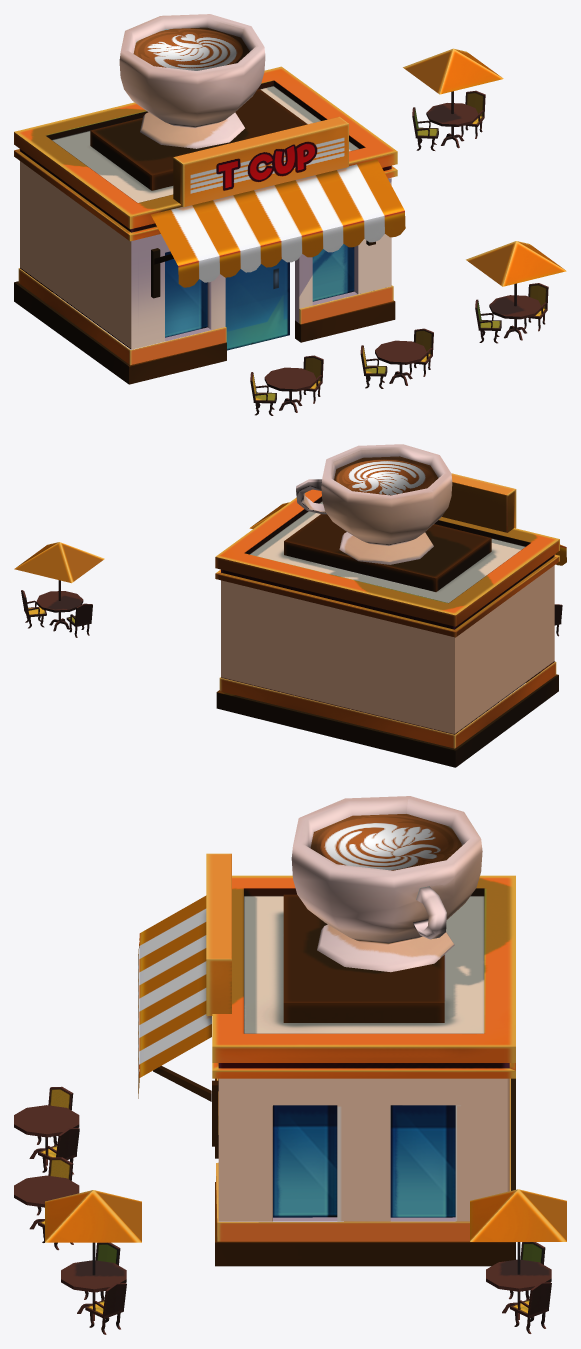
File: Cafe_20180522.fbx
3 renders of one model, top to bottom at view 1: azimuth 30°, elevation 25°; view 2: azimuth 150°, elevation 25°; view 3: azimuth 270°, elevation 25°, orthographic. The views are drawn at different scales.
Visible parts, largest first — view 1: building, cup, Cafe_top, signage, Cafe_Bottom, door, umbrella2, umbrella1, table4, table3, table2, table1 (+4 smaller); view 2: building, cup, signage, umbrella2, table4, chair4; view 3: building, cup, Cafe_top, umbrella1, umbrella2, signage, table4, table3, table1, chair3, chair4, table2 (+1 smaller).
Boxes of the visible parts, x1,y1,x2,y2 form: building: (14,66,397,384); cup: (119,14,265,148); Cafe_top: (151,159,404,265); signage: (173,116,348,207); Cafe_Bottom: (178,211,405,287); door: (225,259,289,350); umbrella2: (403,48,503,94); umbrella1: (466,241,566,286); table4: (426,91,478,148); table3: (489,283,541,340); table2: (375,340,427,385); table1: (264,367,316,412); building: (215,489,559,767); cup: (296,444,452,564); signage: (441,473,516,532); umbrella2: (14,542,104,583); table4: (36,580,83,631); chair4: (21,590,92,637); building: (153,875,515,1266); cup: (291,796,482,972); Cafe_top: (139,895,211,1077); umbrella1: (45,1190,141,1242); umbrella2: (470,1189,566,1241); signage: (206,853,231,1015); table4: (486,1242,551,1319); table3: (61,1242,126,1320); table1: (14,1105,79,1165); chair3: (84,1242,126,1334); chair4: (509,1242,551,1333); table2: (14,1175,79,1229).
Size of the model in its own units: 20.73 by 10.91 by 15.88.
